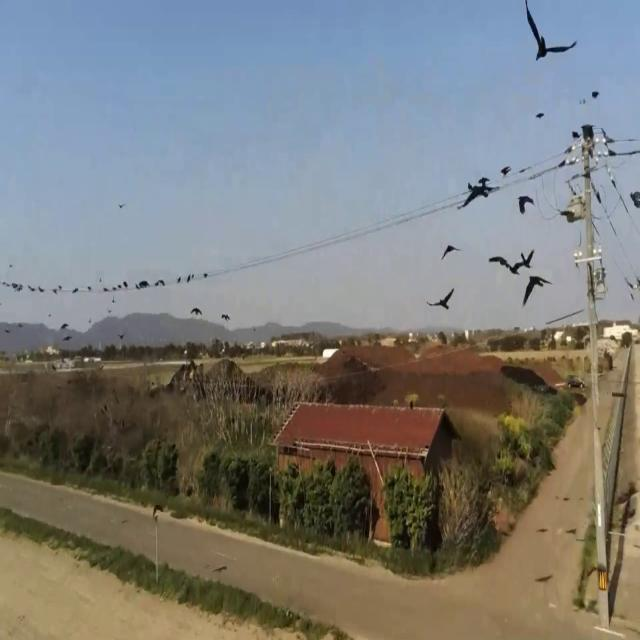bird: (530, 7, 574, 70), (525, 1, 548, 72), (463, 170, 492, 218), (523, 269, 548, 313), (490, 248, 518, 286), (428, 282, 454, 318), (441, 236, 458, 267), (518, 188, 533, 220), (624, 269, 638, 301), (521, 245, 534, 272), (630, 186, 640, 218), (136, 273, 149, 294), (191, 299, 203, 320), (155, 272, 165, 292), (221, 307, 230, 325), (36, 282, 44, 298), (118, 196, 125, 212), (177, 271, 181, 287)
